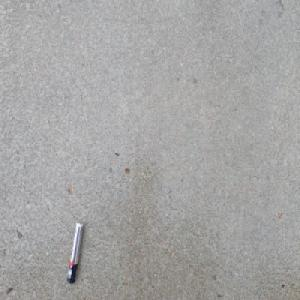Battery: (66, 217, 84, 284)
